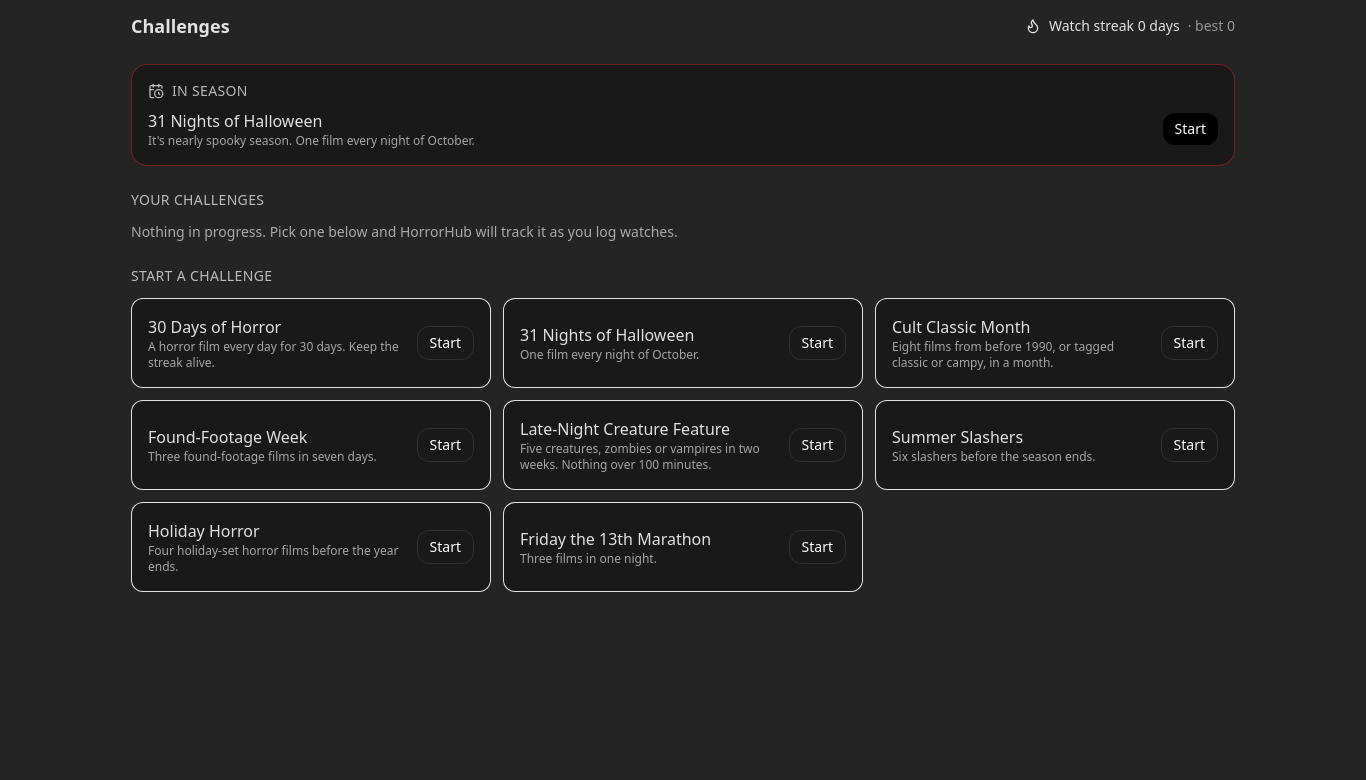
it: challenge start and daily plan › marks tonight once the challenge has started
Click the button "Start" in the row of "It's nearly spooky season" at (1190, 129), box [1163,113,1218,145]
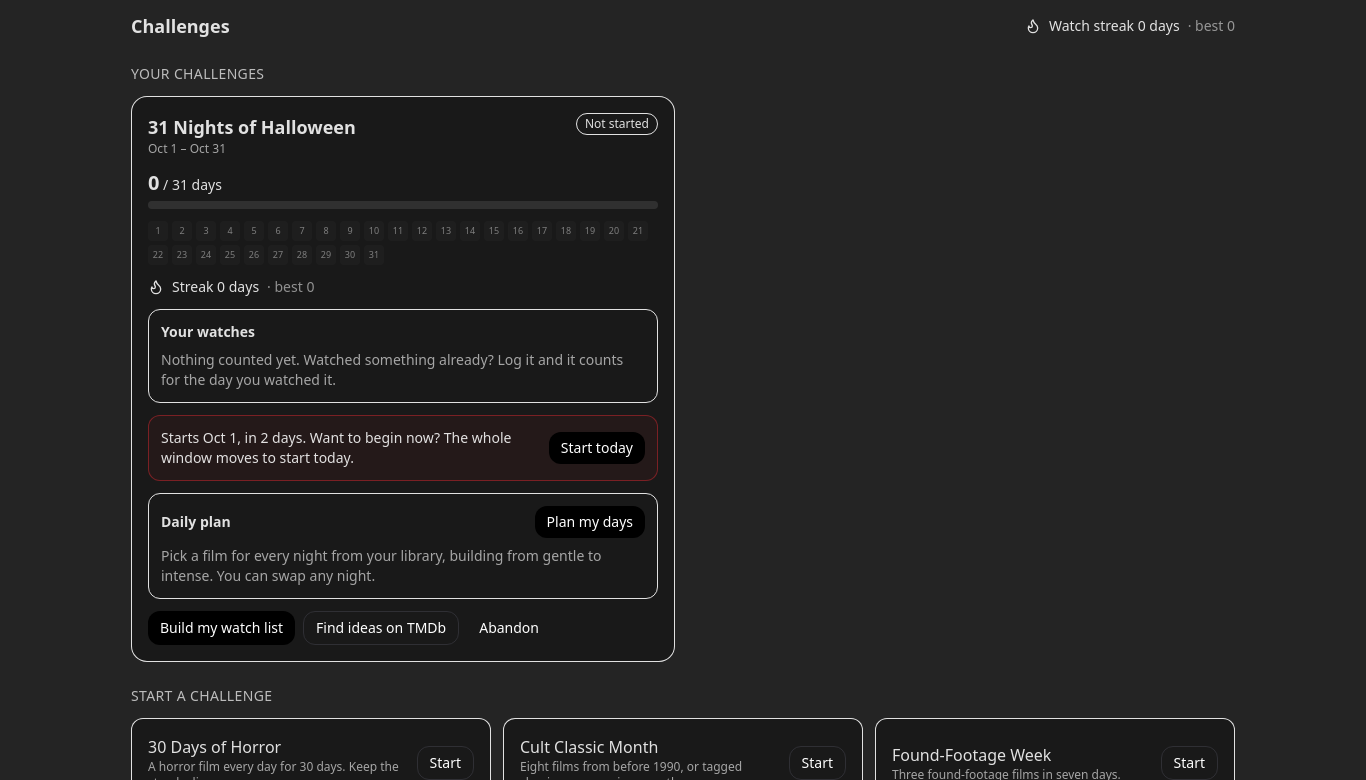
Click the button "Start today" at (597, 448), box [549,432,645,464]
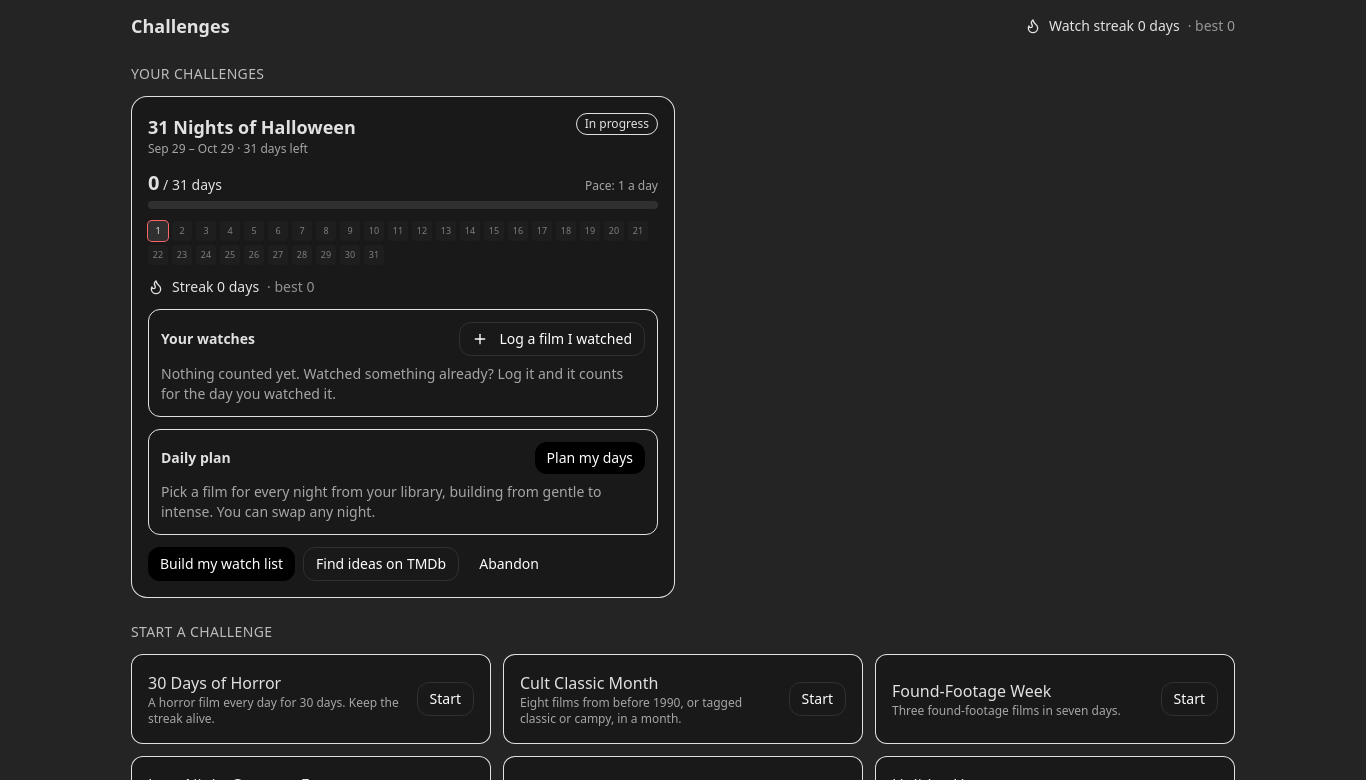
Click the button "Plan my days" at (590, 458), box [535,442,645,474]
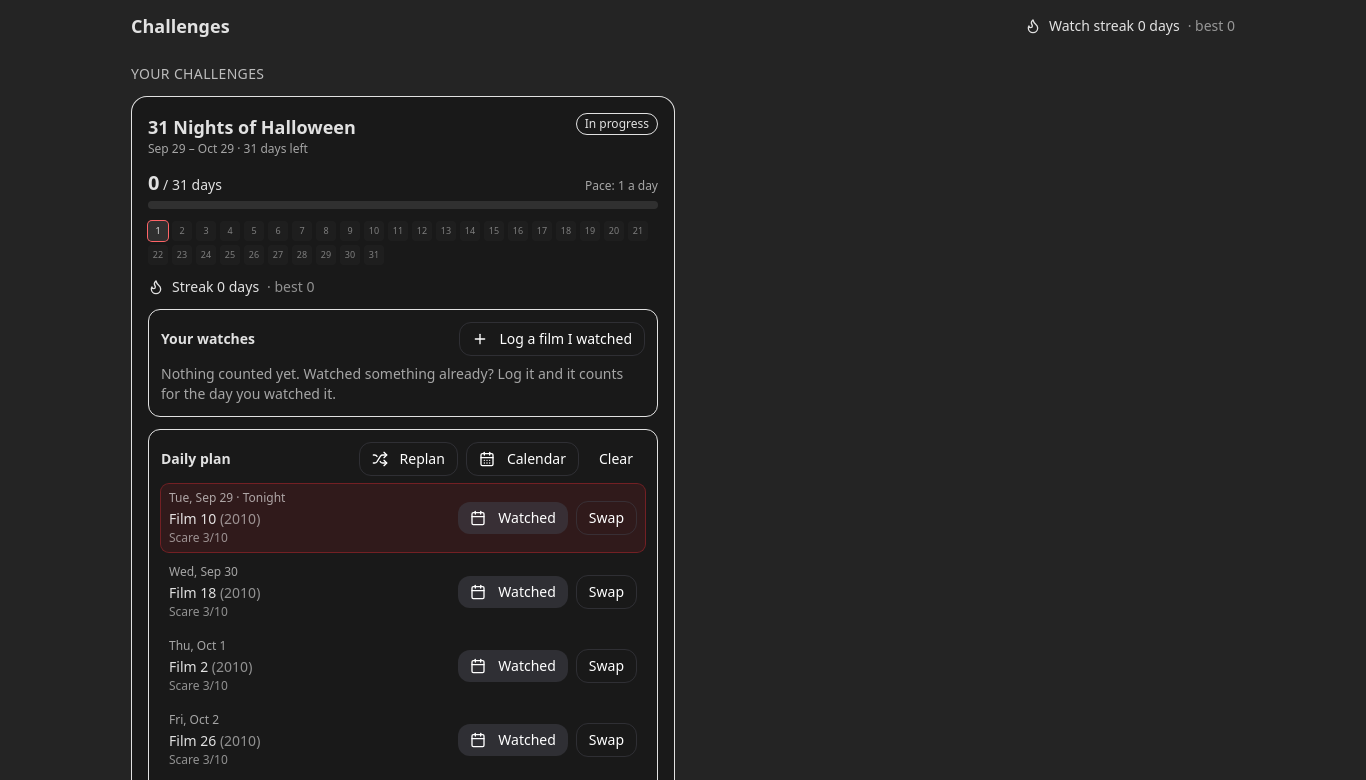
Now the text "Tue, Sep 29 · Tonight" is shown, box [169,490,285,506]
